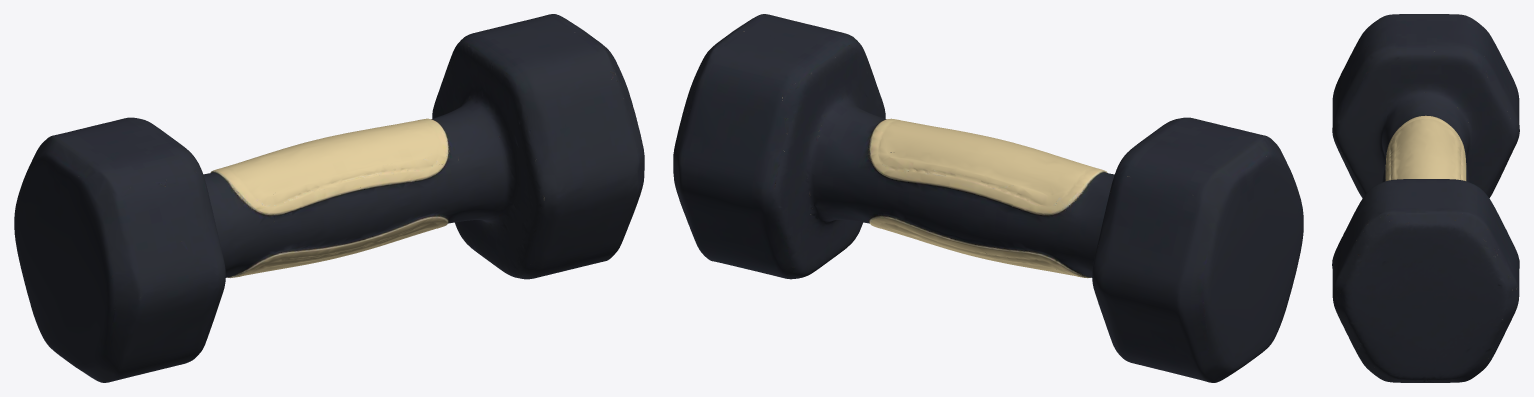
Rendered from dumbbell.glb.
3 views of the same model, side by side, from view 1: azimuth 30°, elevation 25°; view 2: azimuth 150°, elevation 25°; view 3: azimuth 270°, elevation 25° (orthographic). The views are drawn at different scales.
Visible parts, largest first — view 1: Mesh_0; view 2: Mesh_0; view 3: Mesh_0.
Boxes of the visible parts, <box> form: Mesh_0: <box>14,14,644,382</box>; Mesh_0: <box>673,14,1303,382</box>; Mesh_0: <box>1332,14,1519,382</box>.
Bounding box in the file's own units: 1.9 × 0.7242 × 0.7174.
1 material, 1 textured.
